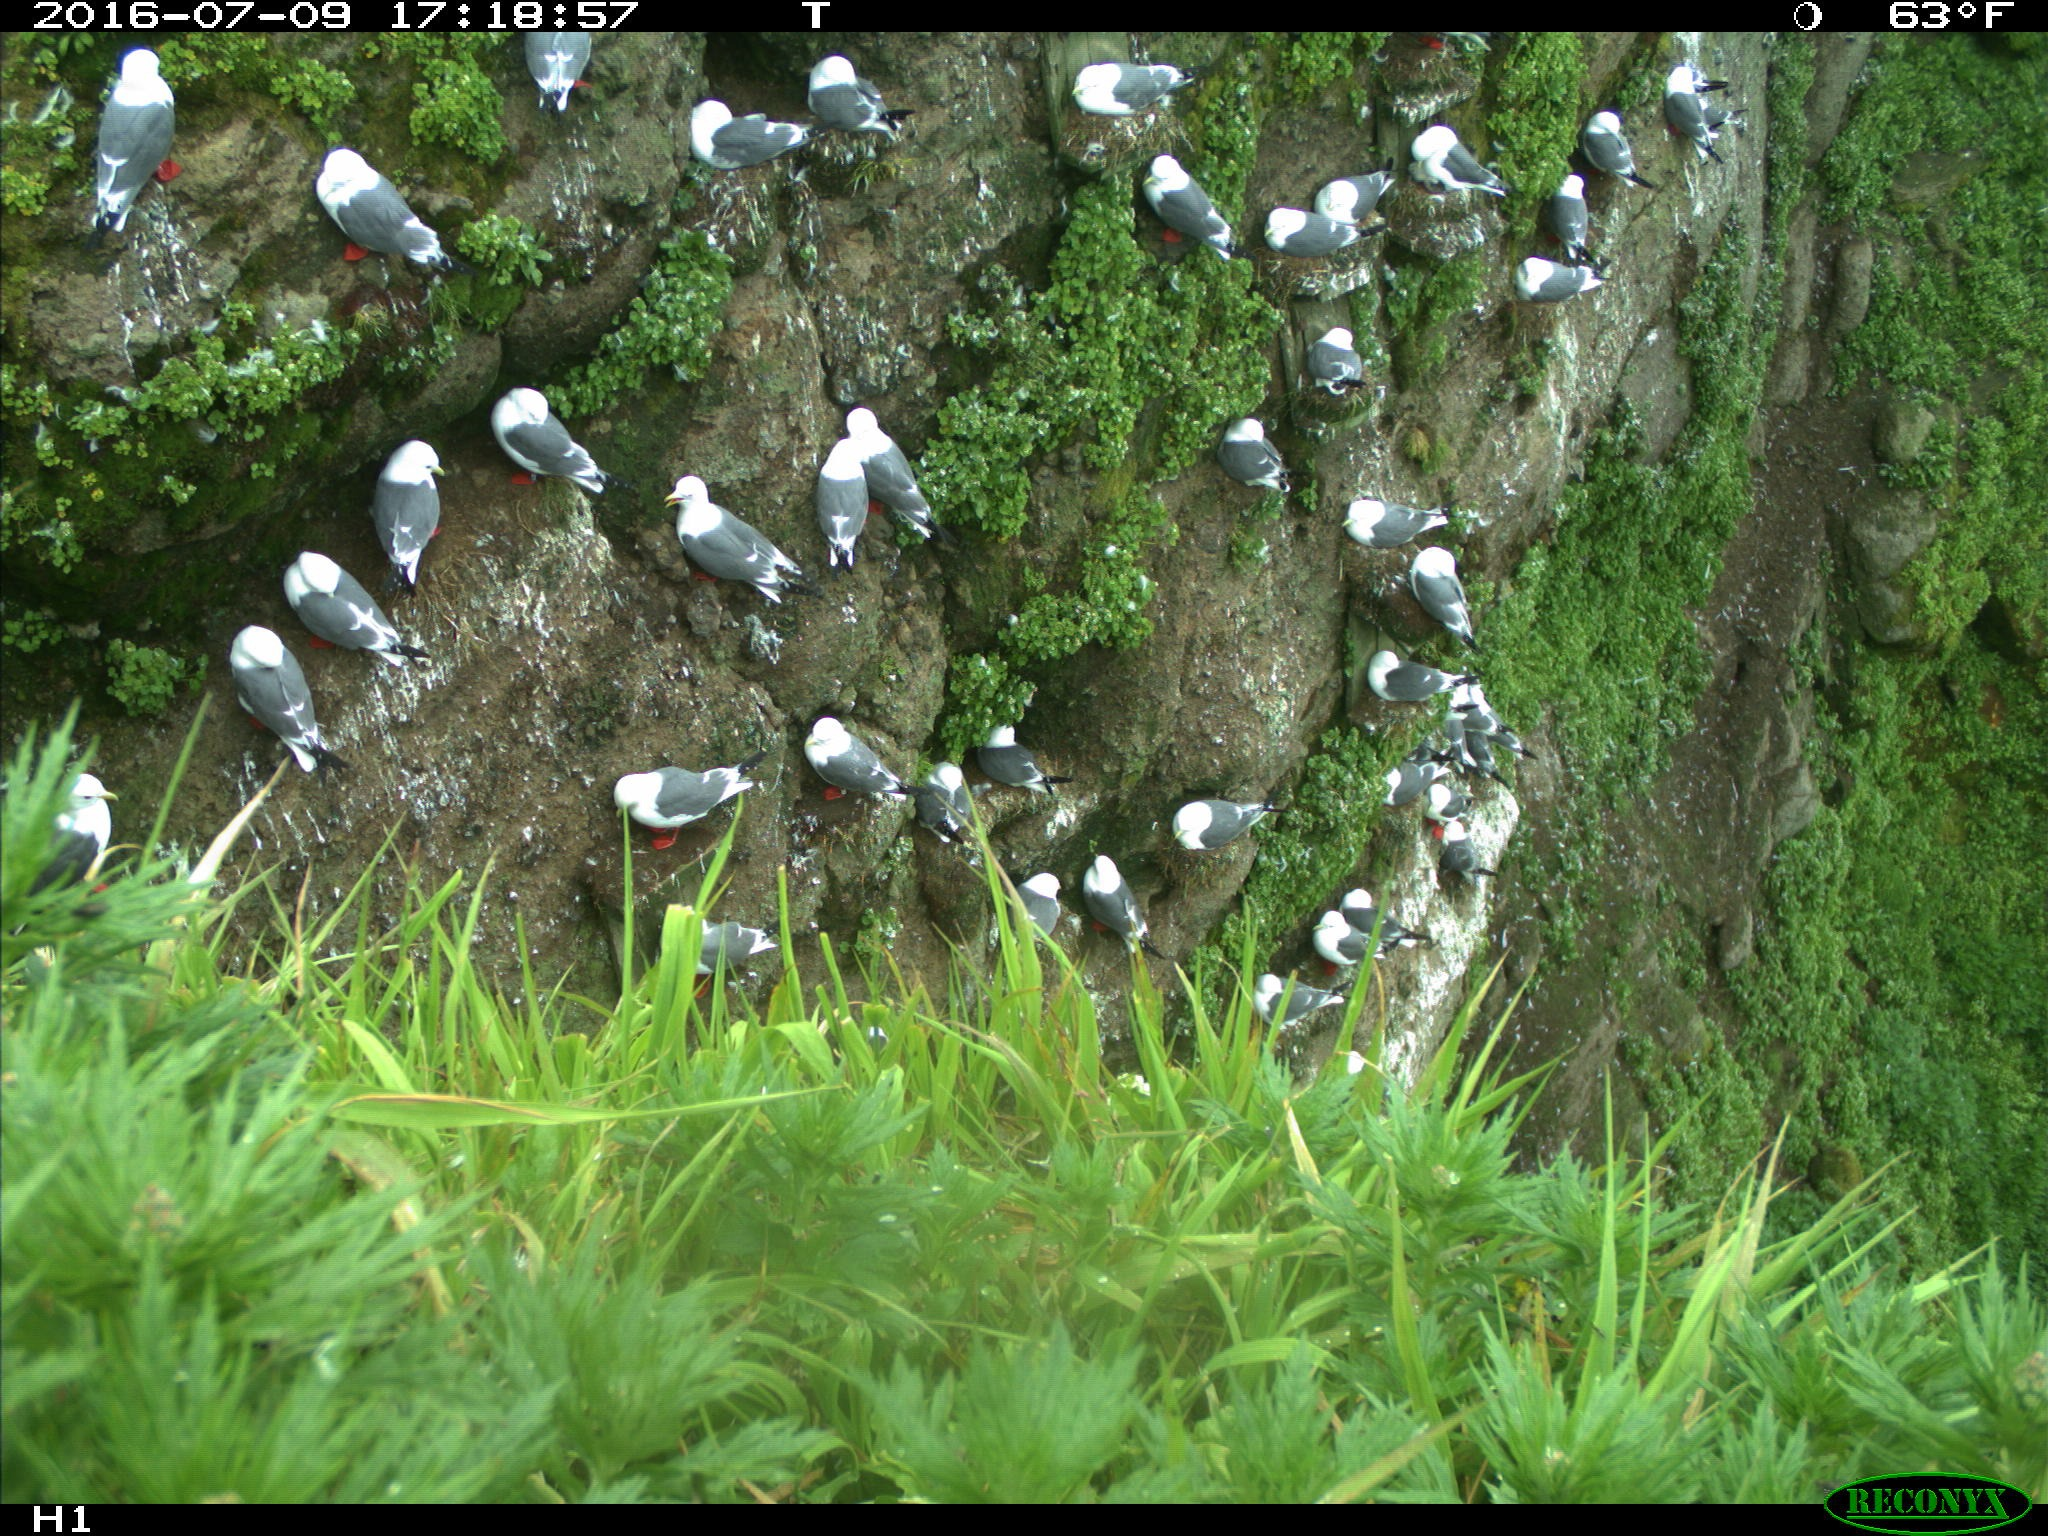Kittiwake: (293, 521, 442, 699), (308, 103, 443, 294), (352, 424, 534, 565), (484, 357, 643, 511), (73, 34, 189, 239), (671, 74, 850, 200), (643, 457, 789, 605), (216, 594, 321, 799), (1043, 37, 1218, 145), (842, 386, 943, 565), (601, 733, 727, 876), (779, 703, 876, 871), (956, 691, 1076, 818), (772, 416, 872, 568), (1122, 148, 1245, 261), (1655, 58, 1763, 186), (1150, 774, 1287, 874), (793, 48, 916, 157), (1242, 939, 1355, 1054), (1242, 198, 1400, 279), (901, 742, 998, 868), (1284, 139, 1417, 227), (1408, 521, 1500, 650), (37, 768, 131, 891), (1521, 165, 1650, 253), (1209, 402, 1305, 516), (1385, 123, 1485, 227), (1329, 854, 1450, 939), (1434, 90, 1526, 198), (677, 899, 785, 984), (1342, 463, 1416, 587), (997, 858, 1072, 979), (1274, 913, 1401, 984), (1066, 849, 1130, 984), (1355, 629, 1455, 716), (1293, 313, 1384, 402), (1496, 245, 1613, 311), (516, 34, 593, 127), (1408, 749, 1476, 847), (1567, 98, 1659, 161)
